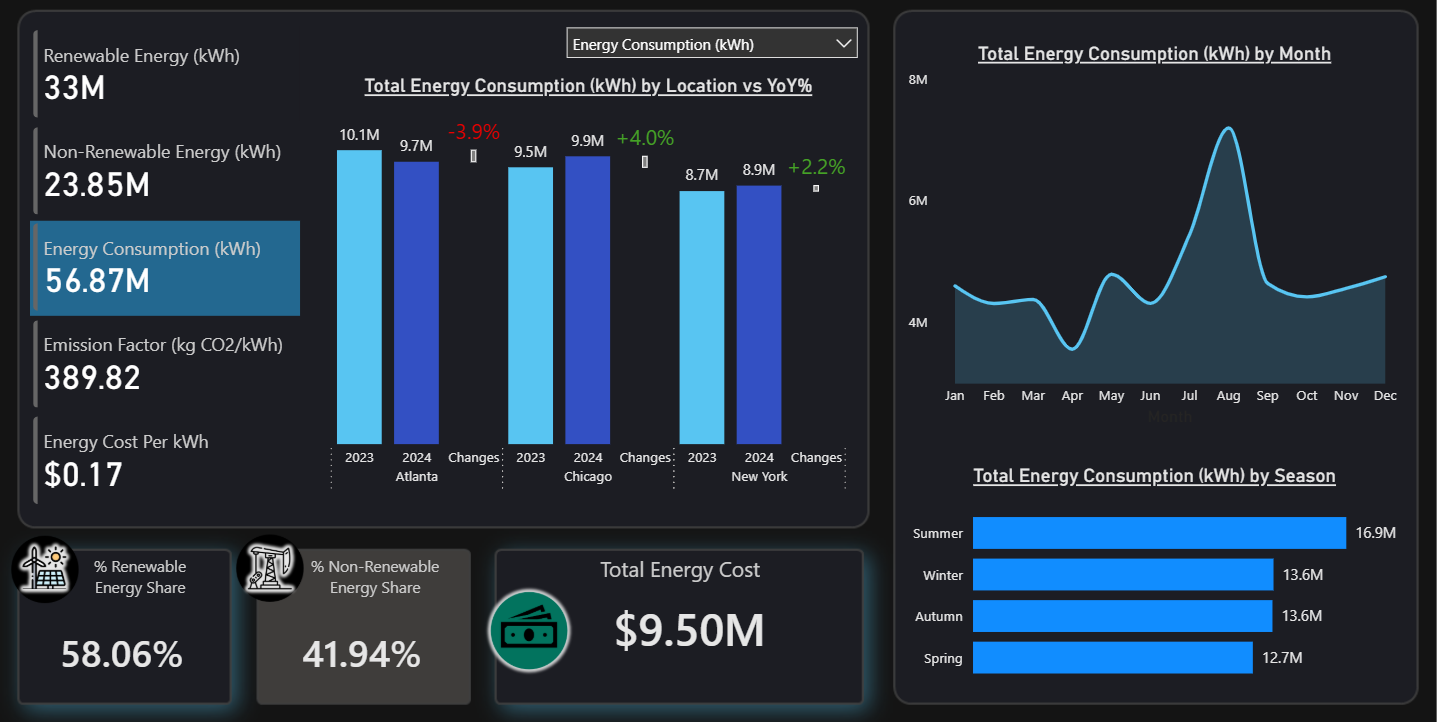

The page's visual inventory and layout, read from the dashboard file:
{"tool":"powerbi","page":{"name":"Page 1","canvas":[1280,720],"ordinal":0},"visuals":[{"type":"shape","box":[26.9,97,240,85],"z":0},{"type":"shape","box":[27,184,240.5,84.7],"z":1000},{"type":"shape","box":[27,270.8,240.5,84.7],"z":2000},{"type":"shape","box":[27,357.5,240.5,84.7],"z":3000},{"type":"shape","box":[27,444.2,240.5,84.7],"z":4000},{"type":"cardVisual","fields":{"Data":["DAX Table.Renewable Energy (kwh)","DAX Table.Total Non-Renewable Energy (kwh)","DAX Table.Total Energy Consumption (kwh)","DAX Table.Emission Factor (kg CO2/kWh)","DAX Table.Energy Cost Per kWh"]},"box":[17.2,88.3,266.3,449.1],"z":5000},{"type":"clusteredColumnChart","fields":{"Category":["Data.Location","Year Table.Year"],"Y":["Year Table.YoY Change"]},"box":[274.8,139.9,498.2,380.4],"z":6000},{"type":"slicer","fields":{"Values":["Switchable Measures.Switchable Measures"]},"box":[494.5,88.3,279.8,46.6],"z":7000},{"type":"cardVisual","fields":{"Data":["DAX Table.% Renewable Energy Share"]},"box":[27.3,612.7,164.5,82.7],"z":8000},{"type":"textbox","box":[57.7,563.2,133.7,49.1],"z":9000},{"type":"textbox","box":[267.5,563.2,133.7,49.1],"z":10000},{"type":"textbox","box":[484.7,563.2,242.9,45.4],"z":11000},{"type":"cardVisual","fields":{"Data":["DAX Table.Energy Cost (USD)"]},"box":[492,591.4,244.2,82.2],"z":12000},{"type":"cardVisual","fields":{"Data":["DAX Table.% Non-Renewable Energy Share"]},"box":[240.9,612.7,164.5,82.7],"z":13000},{"type":"image","box":[10,550.9,60,60],"z":14000},{"type":"image","box":[210,550,60,60],"z":15000},{"type":"image","box":[430.9,595,80.9,80],"z":16000},{"type":"lineChart","fields":{"Category":["Calendar.Month"],"Y":["Switchable Measures.Group Measures"]},"box":[803.7,111.7,449.1,347.2],"z":17000},{"type":"barChart","fields":{"Category":["Calendar.Season"],"Y":["Switchable Measures.Group Measures"]},"box":[803.7,487.1,449.1,207.4],"z":18000},{"type":"textbox","box":[17.2,12.3,474.8,66.3],"z":19000},{"type":"card","fields":{"Values":["DAX Table.Energy Cost Summary"]},"box":[575.5,12.3,677.3,62.6],"z":21000}]}

Visuals, with their boxes on the page's 1280x720 design canvas (x1, y1, x2, y2). These are canvas units, not pixel positions in the 1437x722 screenshot, which may show the page scaled, cropped or inside an application window:
shape: <box>27,97,267,182</box>
shape: <box>27,184,268,269</box>
shape: <box>27,271,268,356</box>
shape: <box>27,358,268,442</box>
shape: <box>27,444,268,529</box>
cardVisual - DAX Table.Renewable Energy (kwh) x DAX Table.Total Non-Renewable Energy (kwh): <box>17,88,284,537</box>
clusteredColumnChart - Data.Location x Year Table.Year: <box>275,140,773,520</box>
slicer - Switchable Measures.Switchable Measures: <box>494,88,774,135</box>
cardVisual - DAX Table.% Renewable Energy Share: <box>27,613,192,695</box>
textbox: <box>58,563,191,612</box>
textbox: <box>268,563,401,612</box>
textbox: <box>485,563,728,609</box>
cardVisual - DAX Table.Energy Cost (USD): <box>492,591,736,674</box>
cardVisual - DAX Table.% Non-Renewable Energy Share: <box>241,613,405,695</box>
image: <box>10,551,70,611</box>
image: <box>210,550,270,610</box>
image: <box>431,595,512,675</box>
lineChart - Calendar.Month x Switchable Measures.Group Measures: <box>804,112,1253,459</box>
barChart - Calendar.Season x Switchable Measures.Group Measures: <box>804,487,1253,694</box>
textbox: <box>17,12,492,79</box>
card - DAX Table.Energy Cost Summary: <box>576,12,1253,75</box>
